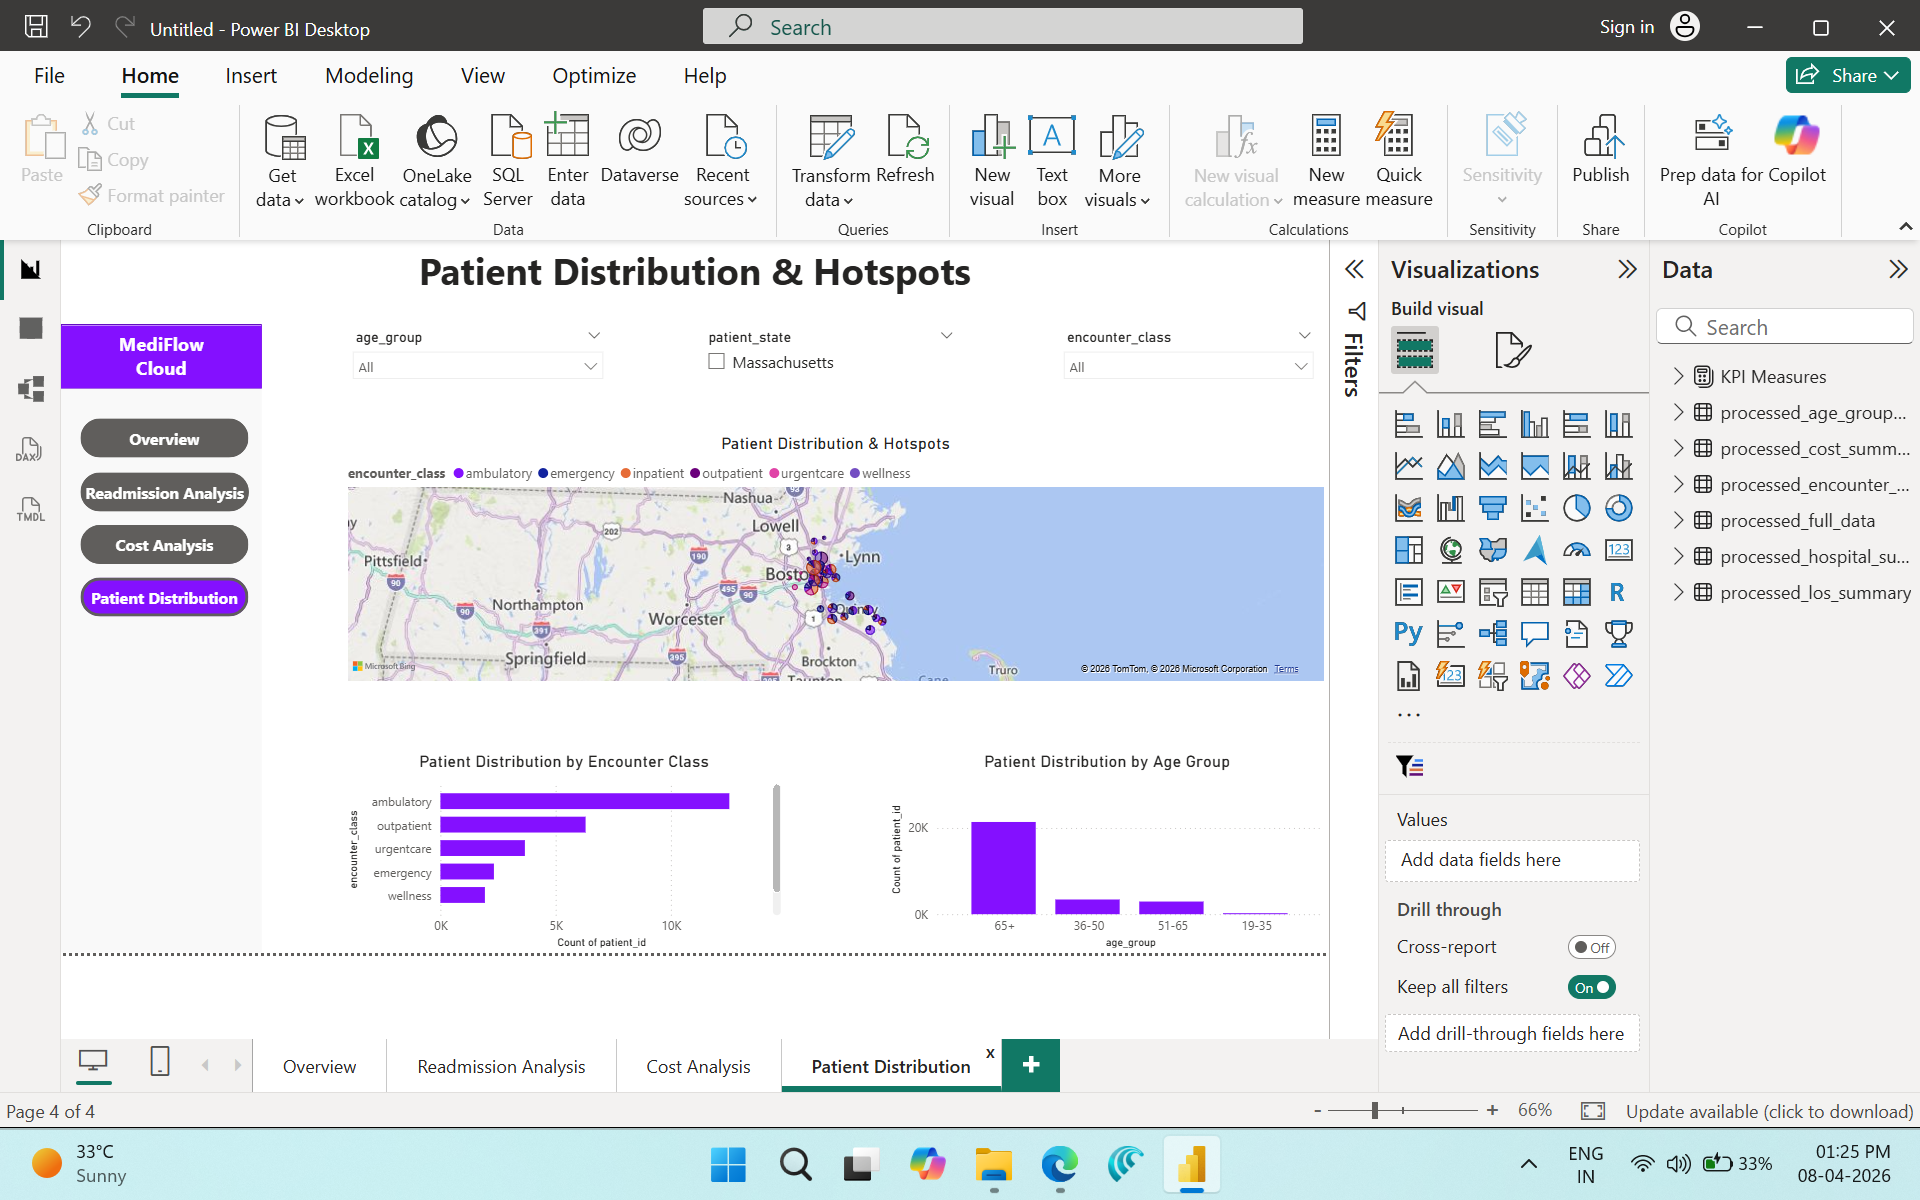

The page's visual inventory and layout, read from the dashboard file:
{"tool":"powerbi","page":{"name":"Patient Distribution","canvas":[1280,720],"ordinal":3},"visuals":[{"type":"textbox","box":[0,0,1279.5,65.1],"z":0},{"type":"slicer","fields":{"Values":["processed_full_data.age_group"]},"box":[284.7,84.8,272.6,75.7],"z":1000},{"type":"slicer","fields":{"Values":["processed_full_data.patient_state"]},"box":[640.5,84.8,272.6,75.7],"z":2000},{"type":"slicer","fields":{"Values":["processed_full_data.encounter_class"]},"box":[1002.4,84.8,272,75.7],"z":3000},{"type":"map","title":"Patient Distribution & Hotspots","fields":{"Category":["processed_full_data.Location_Full"],"Size":["Avg(processed_full_data.total_claim_cost)"],"Series":["processed_full_data.encounter_class"]},"box":[284.7,195.3,994.8,254.4],"z":4000},{"type":"clusteredColumnChart","title":"Patient Distribution by Age Group","fields":{"Category":["processed_full_data.age_group"],"Y":["CountNonNull(processed_full_data.patient_id)"]},"box":[832.8,516.3,446.7,202.9],"z":5000},{"type":"clusteredBarChart","title":"Patient Distribution by Encounter Class","fields":{"Category":["processed_full_data.encounter_class"],"Y":["CountNonNull(processed_full_data.patient_id)"]},"box":[284.7,516.3,446.7,202.9],"z":6000},{"type":"shape","box":[0,84.8,202.9,634.5],"z":7000},{"type":"shape","box":[0,84.8,202.9,65.1],"z":8000},{"type":"textbox","box":[0,86.3,202.9,63.6],"z":9000},{"type":"actionButton","box":[19.7,179.7,169.6,39.4],"z":10000},{"type":"actionButton","box":[19.7,234.2,170,39.4],"z":11000},{"type":"actionButton","box":[19.7,287.2,169.6,39.4],"z":12000},{"type":"actionButton","box":[19.7,340.7,169.6,39.4],"z":13000}]}

Visuals, with their boxes on the page's 1280x720 design canvas (x1, y1, x2, y2). These are canvas units, not pixel positions in the 1920x1200 screenshot, which may show the page scaled, cropped or inside an application window:
textbox: [0, 0, 1280, 65]
slicer - processed_full_data.age_group: [285, 85, 557, 160]
slicer - processed_full_data.patient_state: [640, 85, 913, 160]
slicer - processed_full_data.encounter_class: [1002, 85, 1274, 160]
"Patient Distribution & Hotspots" map: [285, 195, 1280, 450]
"Patient Distribution by Age Group" clusteredColumnChart: [833, 516, 1280, 719]
"Patient Distribution by Encounter Class" clusteredBarChart: [285, 516, 731, 719]
shape: [0, 85, 203, 719]
shape: [0, 85, 203, 150]
textbox: [0, 86, 203, 150]
actionButton: [20, 180, 189, 219]
actionButton: [20, 234, 190, 274]
actionButton: [20, 287, 189, 327]
actionButton: [20, 341, 189, 380]
